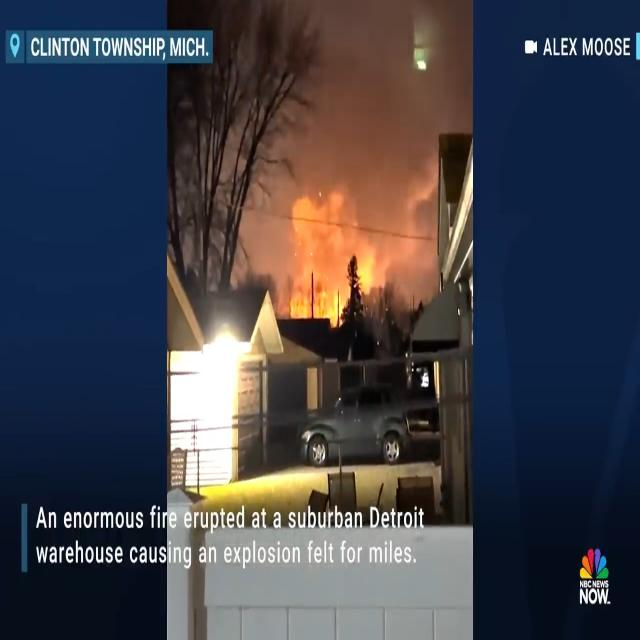fire: (294, 292, 344, 318), (356, 244, 378, 289)
